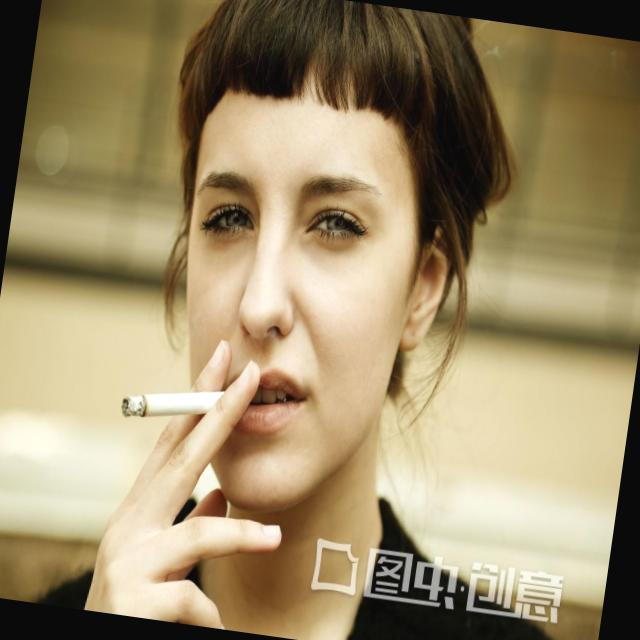cigarette: (78, 363, 214, 447)
